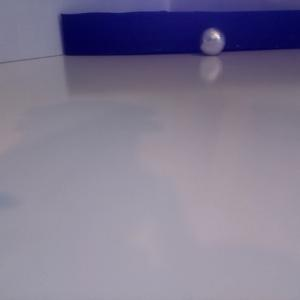zone: (60, 11, 300, 55)
